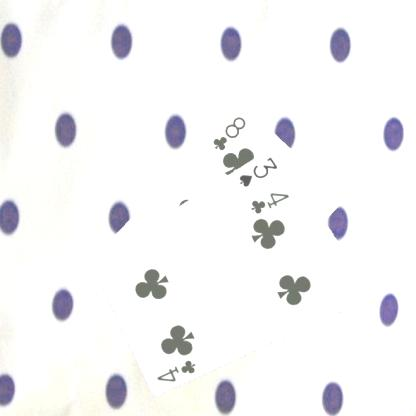3S: (236, 154, 279, 188)
4C: (248, 189, 291, 215), (154, 357, 197, 383)
8C: (209, 113, 248, 152)
